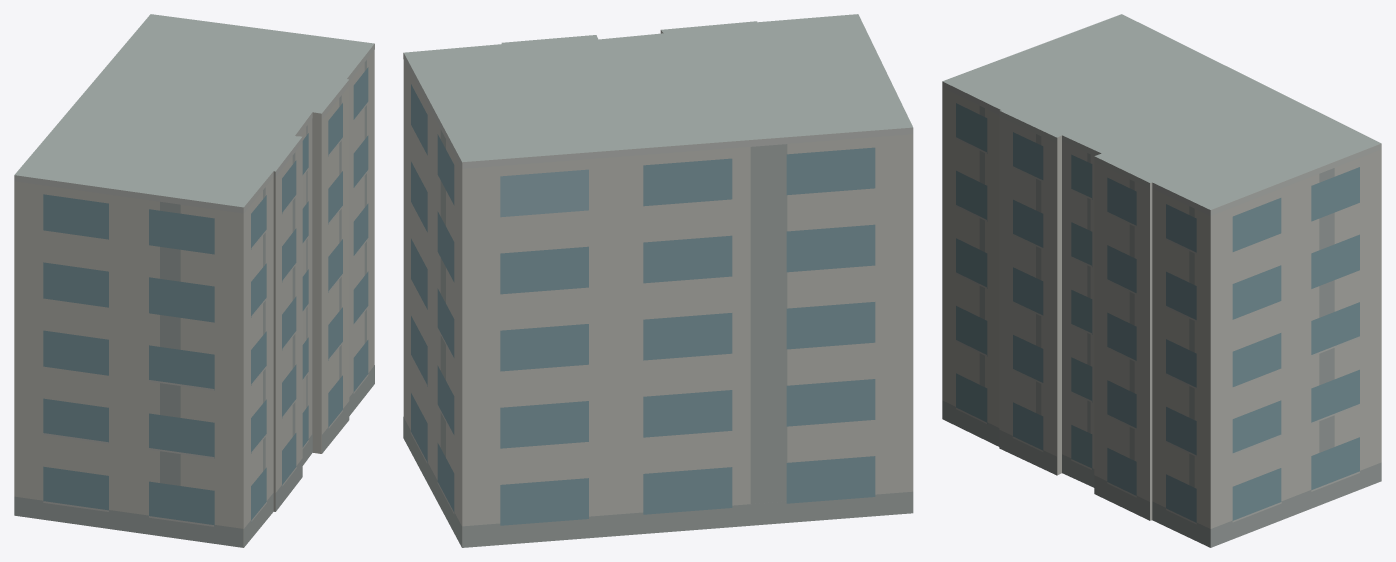
Rendered from survey-upis-32992470.glb.
The picture shows the model from 3 angles, left to right: view 1: azimuth 30°, elevation 25°; view 2: azimuth 150°, elevation 25°; view 3: azimuth 270°, elevation 25°; orthographic projection. The views are drawn at different scales.
Visible parts, largest first — view 1: survey-upis-32992470.tmp; view 2: survey-upis-32992470.tmp; view 3: survey-upis-32992470.tmp.
Part boxes in pixels (left/top/right/bottom): survey-upis-32992470.tmp: left=14, top=14, right=374, bottom=547; survey-upis-32992470.tmp: left=403, top=14, right=913, bottom=547; survey-upis-32992470.tmp: left=942, top=14, right=1381, bottom=547.
Bounding box in the file's own units: 17.01 × 13.65 × 16.1.
